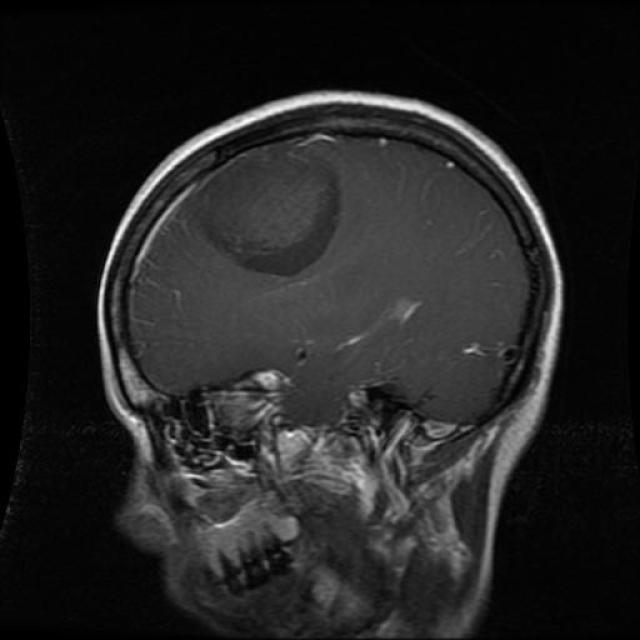brain_tumor: (196, 173, 340, 276)
